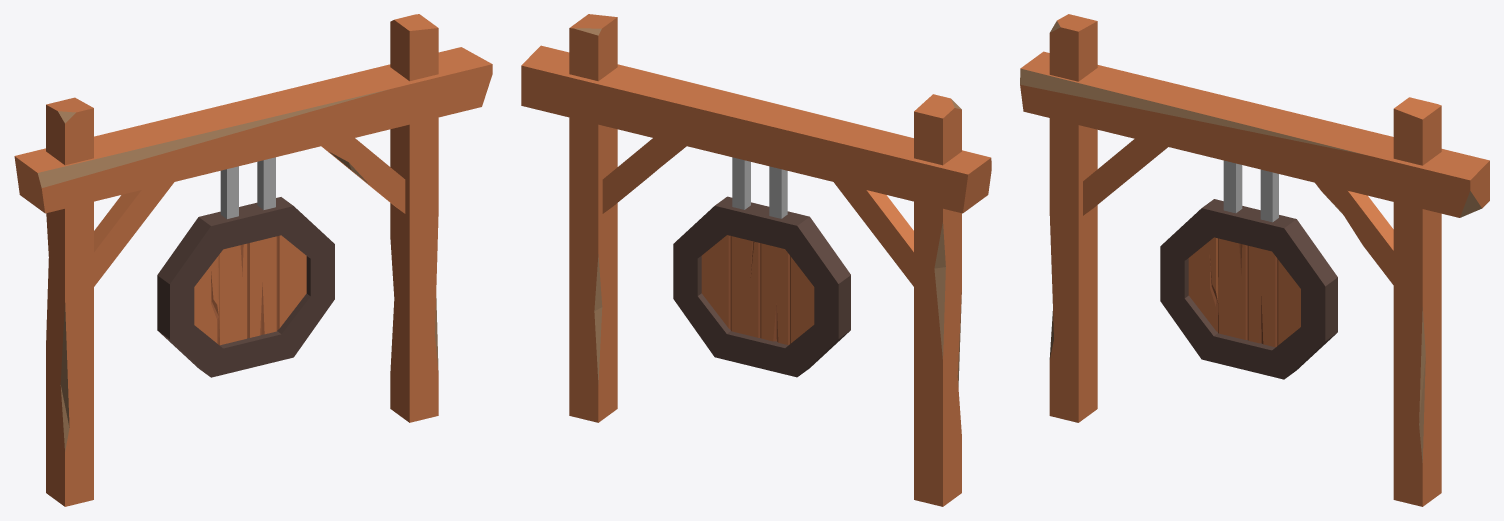
Rendered from Sign_2.fbx.
The picture shows the model from 3 angles, left to right: view 1: azimuth 30°, elevation 25°; view 2: azimuth 150°, elevation 25°; view 3: azimuth 330°, elevation 25°; orthographic projection.
Parts seen in each view (by area): view 1: Sign_2; view 2: Sign_2; view 3: Sign_2.
Boxes of the visible parts, x1,y1,x2,y2 form: Sign_2: (14, 14, 492, 506); Sign_2: (521, 14, 991, 506); Sign_2: (1020, 14, 1489, 506).
Bounding box in the file's own units: 102 × 84.29 × 9.9.
